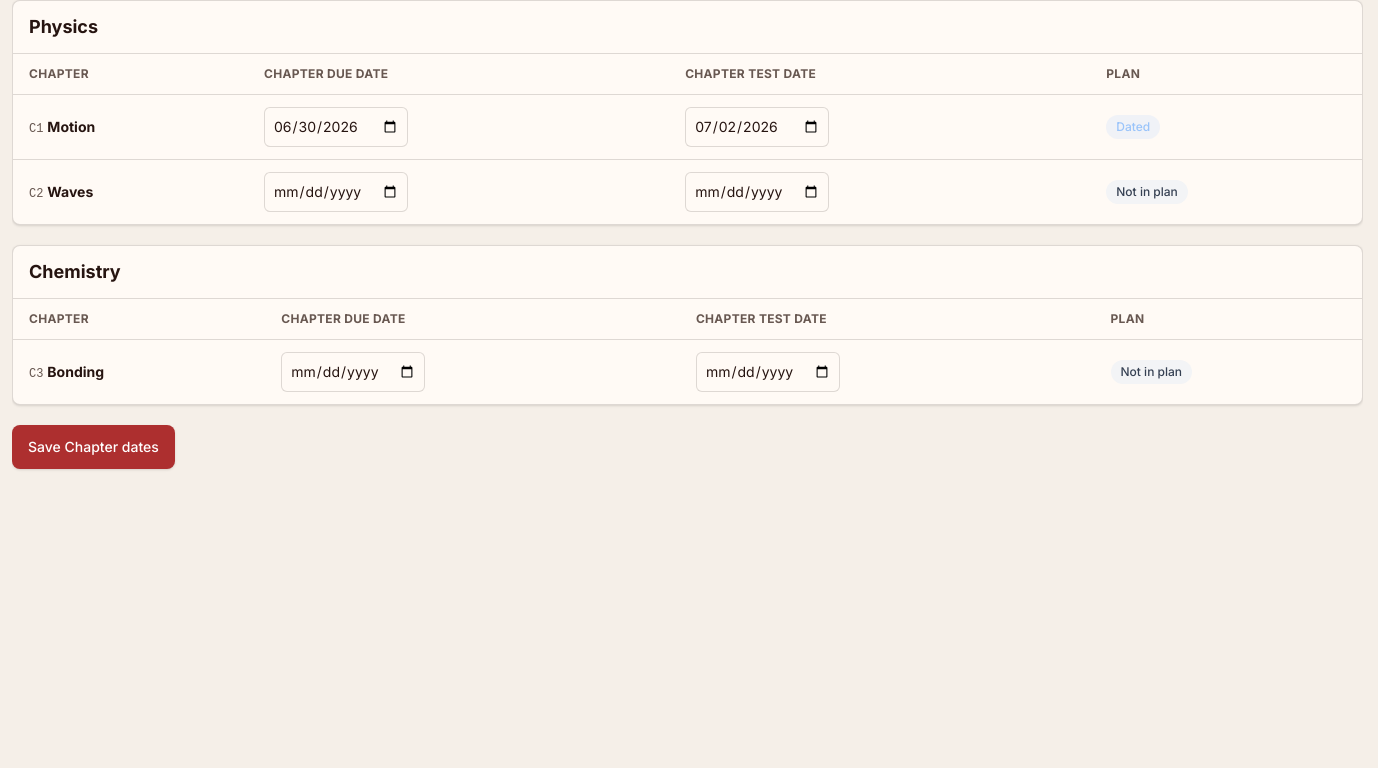
Scenario: CurriculumPlanChapterDates › sends only changed Chapters, clearing emptied dates, and shows warnings
Clear the date field named "Test date for Motion" at (757, 127), box [685,107,829,147]
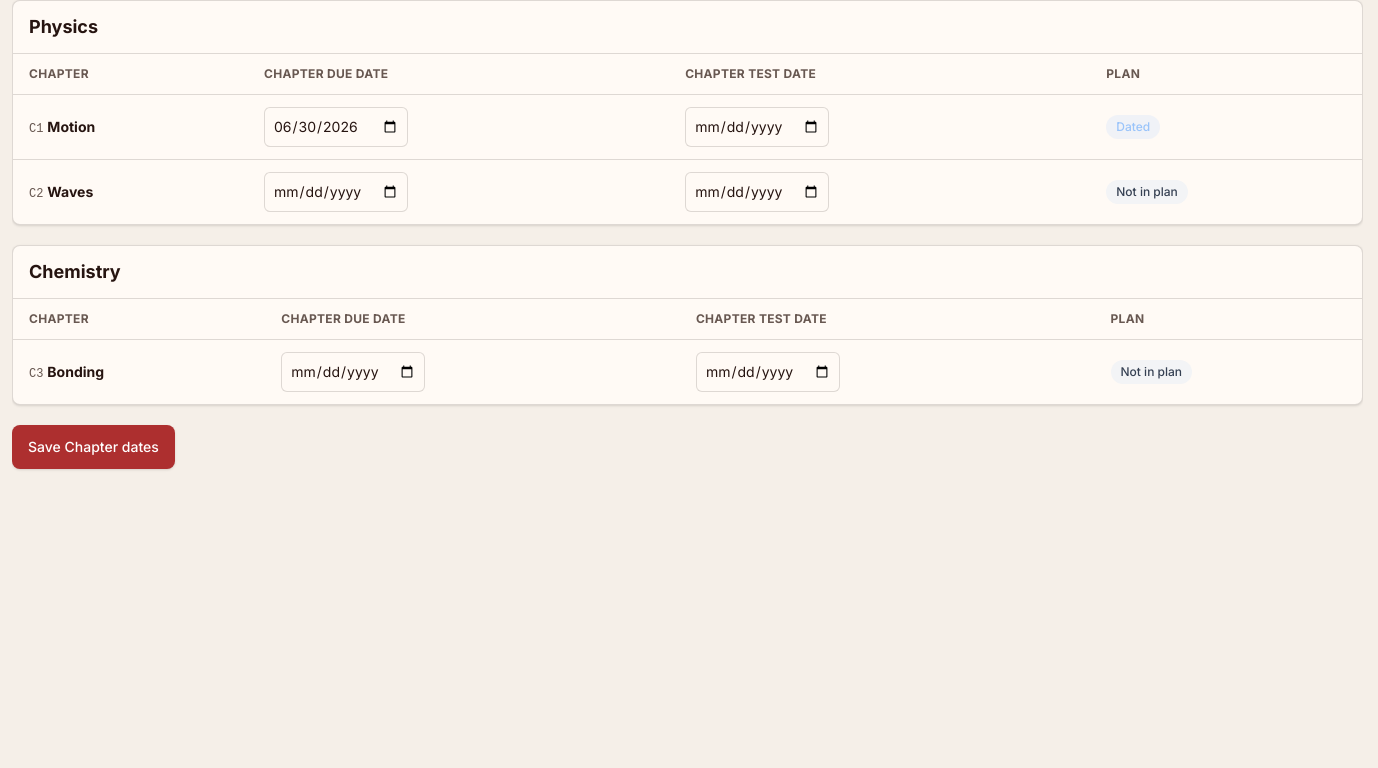
Type "2026-08-10" into the date field named "Due date for Waves" at (336, 192), box [264,172,408,212]
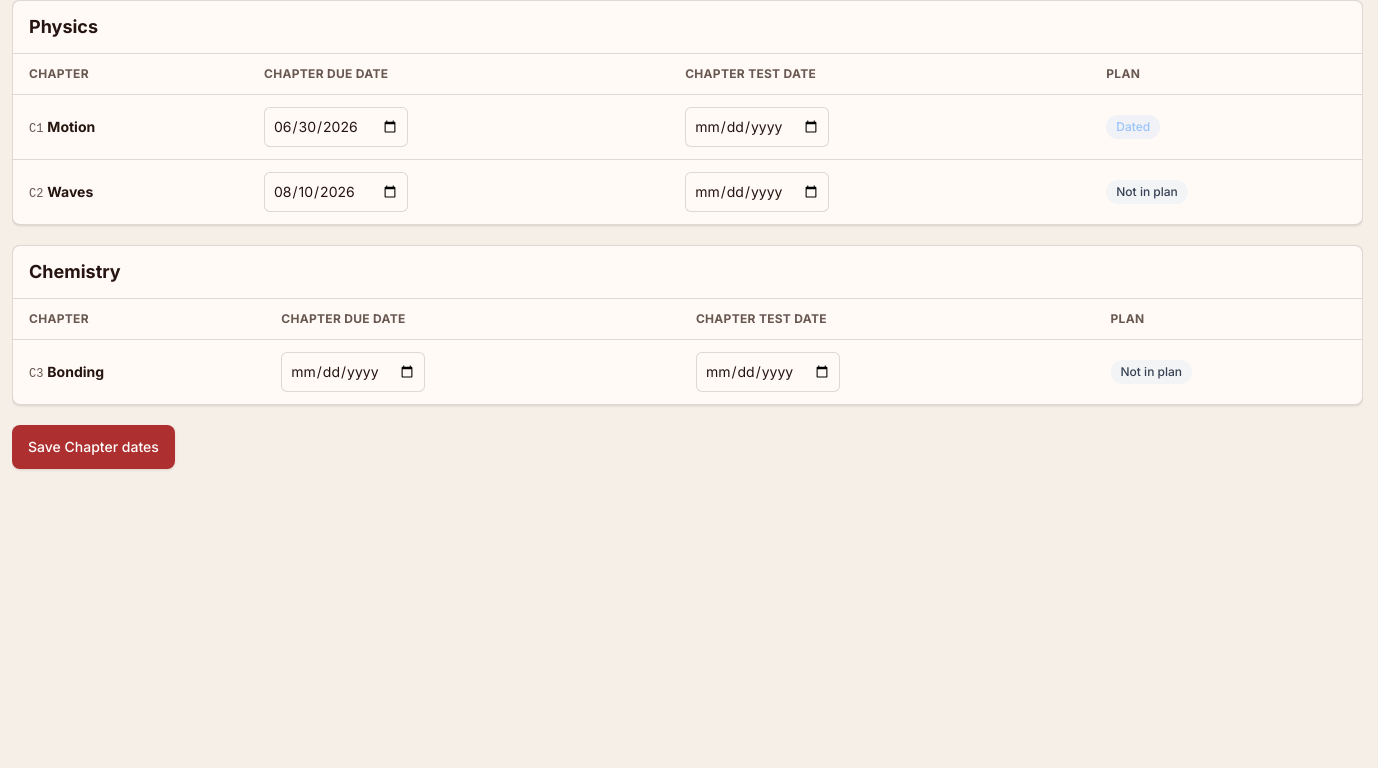
Type "2026-08-01" into the date field named "Test date for Waves" at (757, 192), box [685,172,829,212]
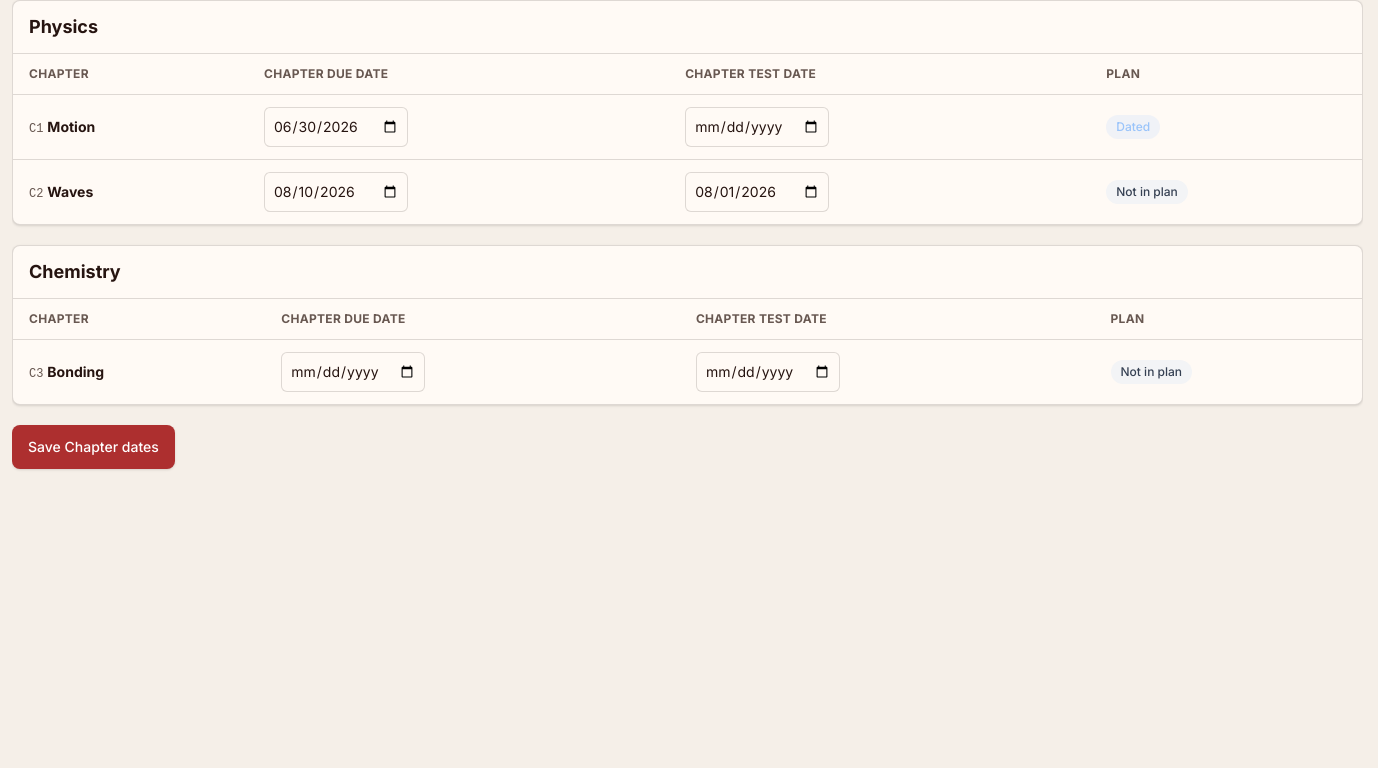
Click the button "Save Chapter dates" at (93, 447), box [12,425,175,469]
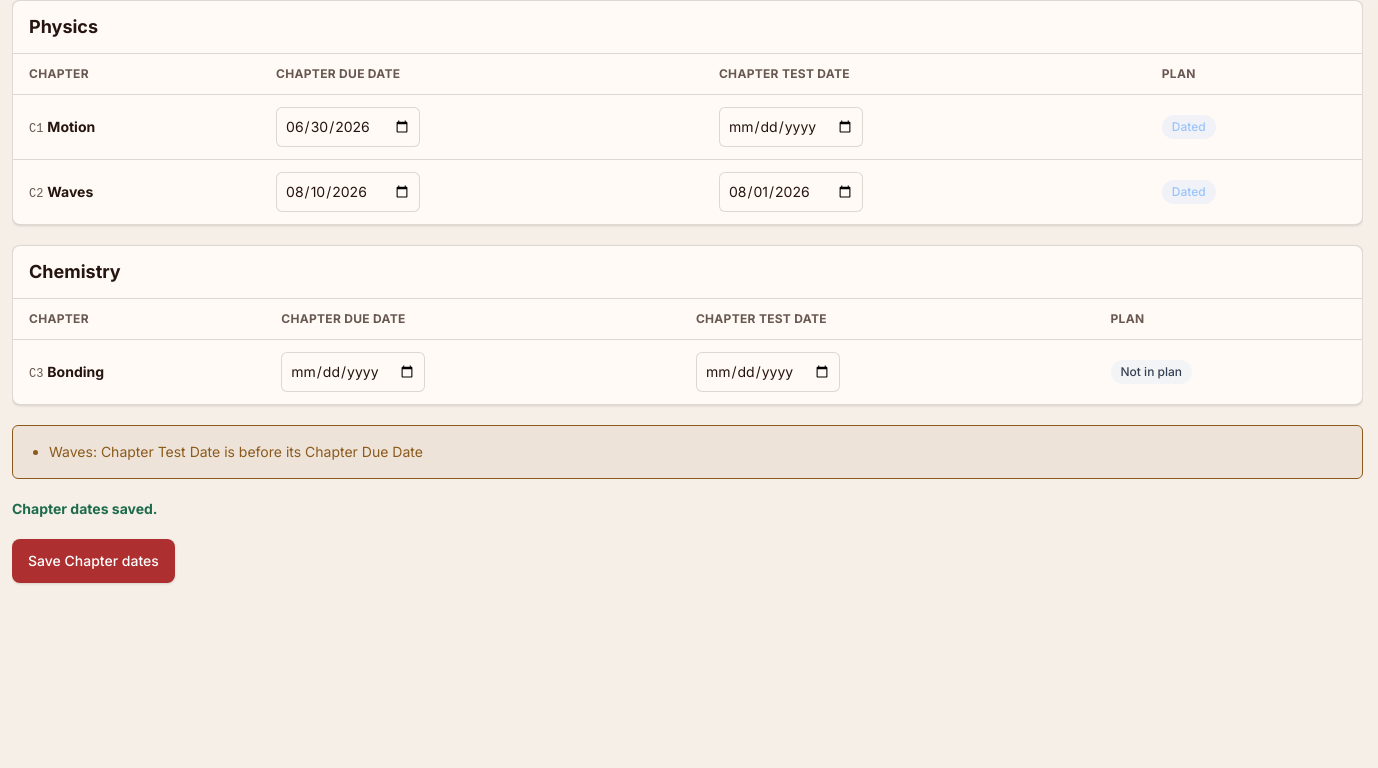
Expected: the message reads "Chapter dates saved.", [12,500,158,517]
Expected: the element with test id "plan-date-warnings" reads "Waves: Chapter Test Date is before its Chapter Due Date", [12,425,1363,479]
Click the button "Save Chapter dates" at (93, 561), box [12,539,175,583]
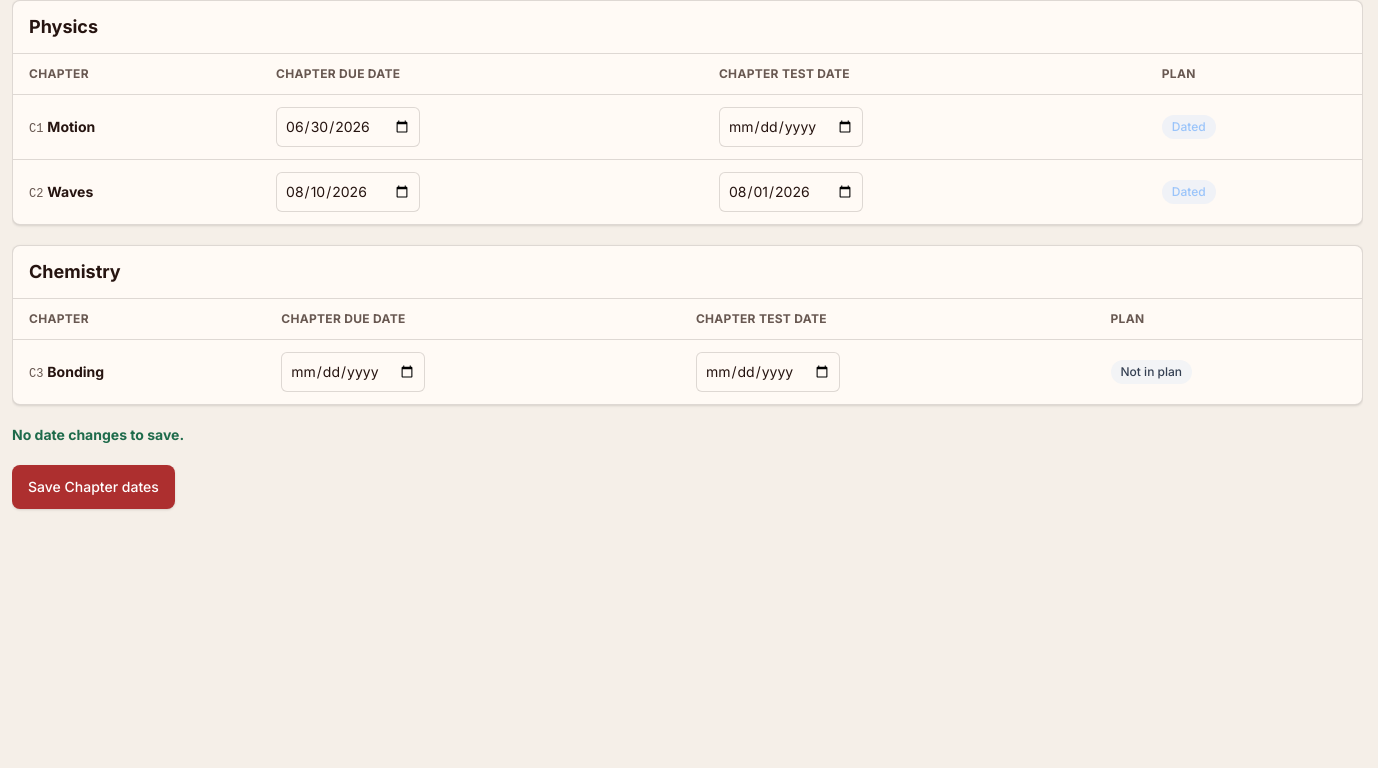
Expected: the message reads "No date changes to save.", [12,426,184,443]
